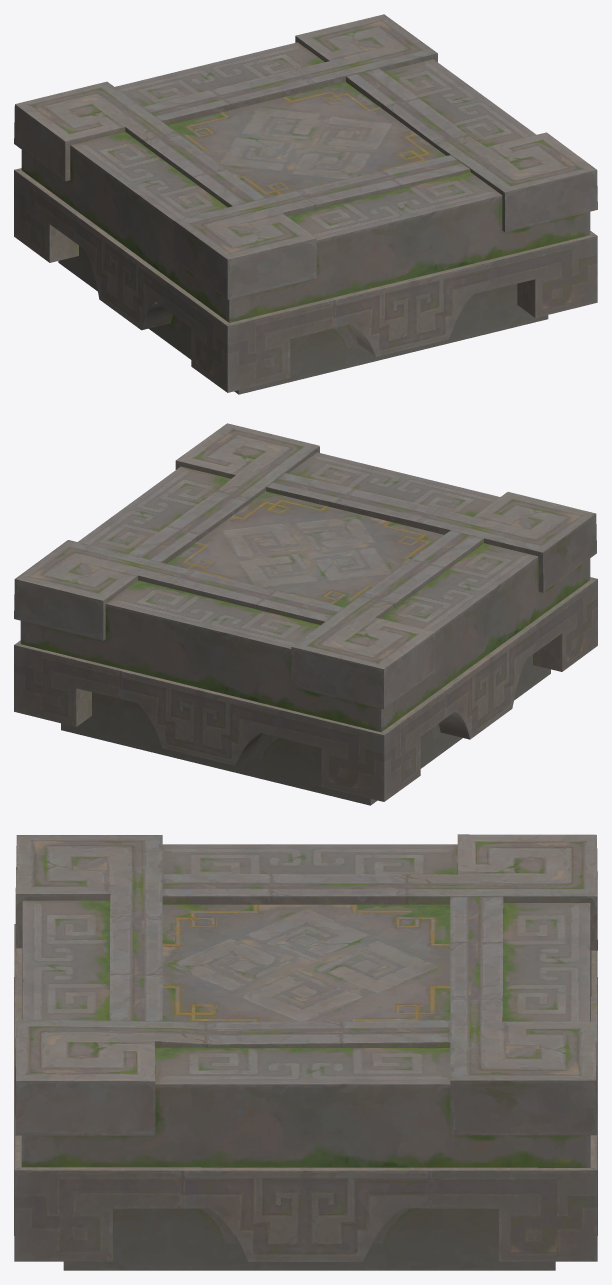
File: Dungeon_Platform.fbx
3 views of the same model, one above another, from view 1: azimuth 30°, elevation 25°; view 2: azimuth 150°, elevation 25°; view 3: azimuth 270°, elevation 25° (orthographic). The views are drawn at different scales.
Parts seen in each view (by area): view 1: Dungeon_Platform; view 2: Dungeon_Platform; view 3: Dungeon_Platform.
Part boxes in pixels (x1=…): Dungeon_Platform: x1=14, y1=14, x2=597, y2=394; Dungeon_Platform: x1=14, y1=423, x2=597, y2=805; Dungeon_Platform: x1=14, y1=834, x2=597, y2=1270.
Size of the model in its own units: 4 by 1.59 by 4.
